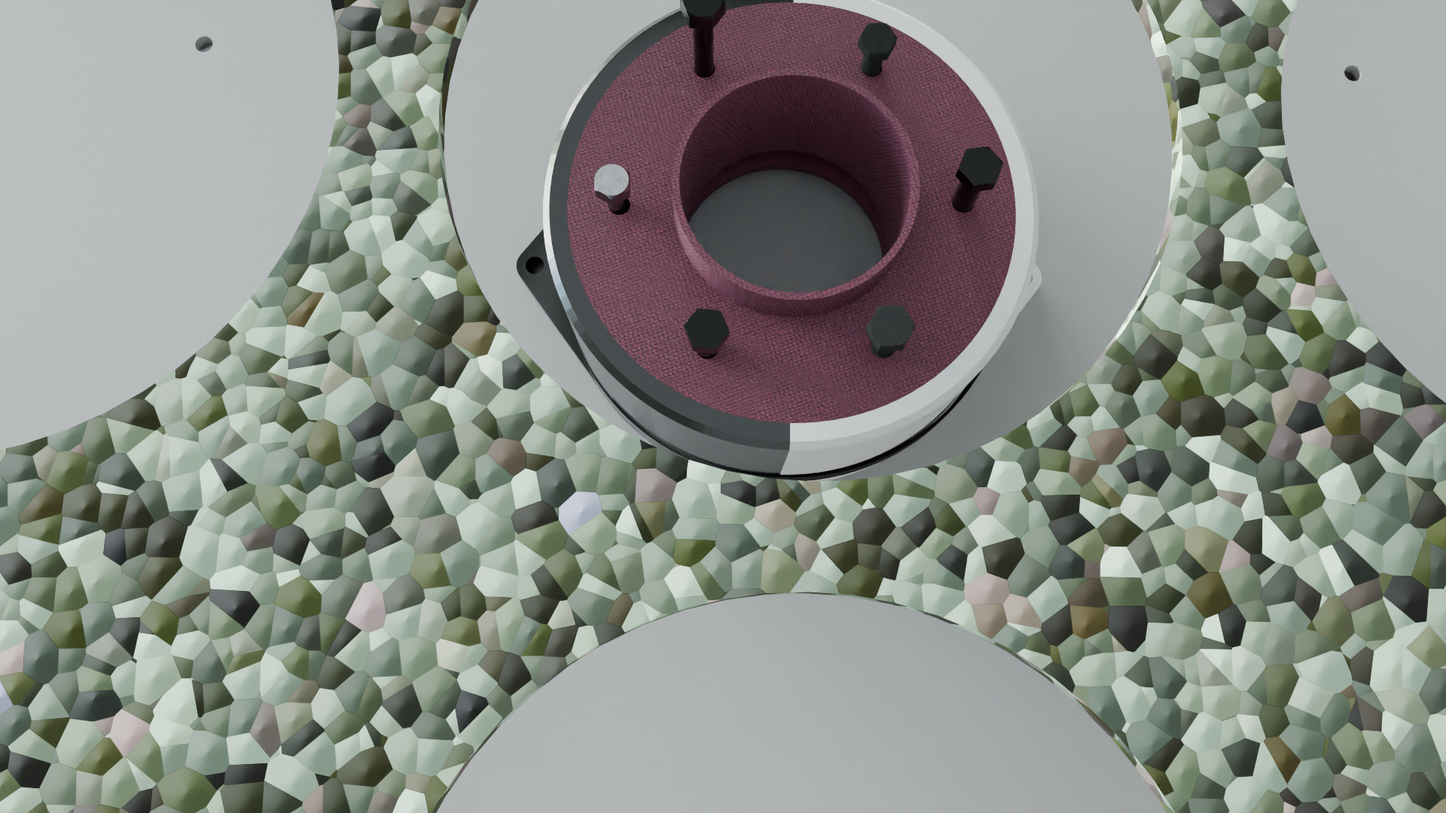bolt: (867, 306, 916, 346), (684, 308, 730, 350), (959, 147, 1003, 186), (594, 163, 630, 199), (859, 23, 897, 54), (680, 0, 725, 20)
